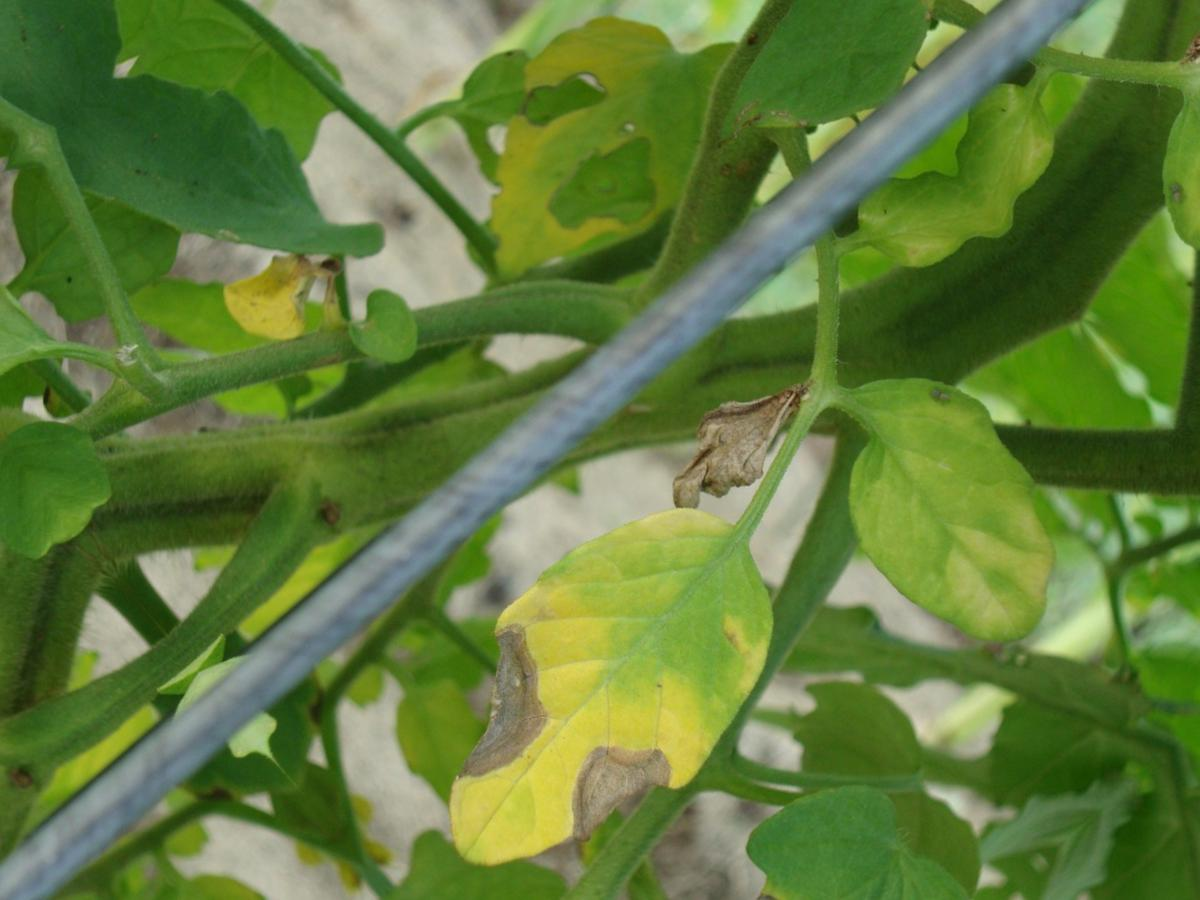Tomato Early blight leaf: (353, 448, 840, 900)
